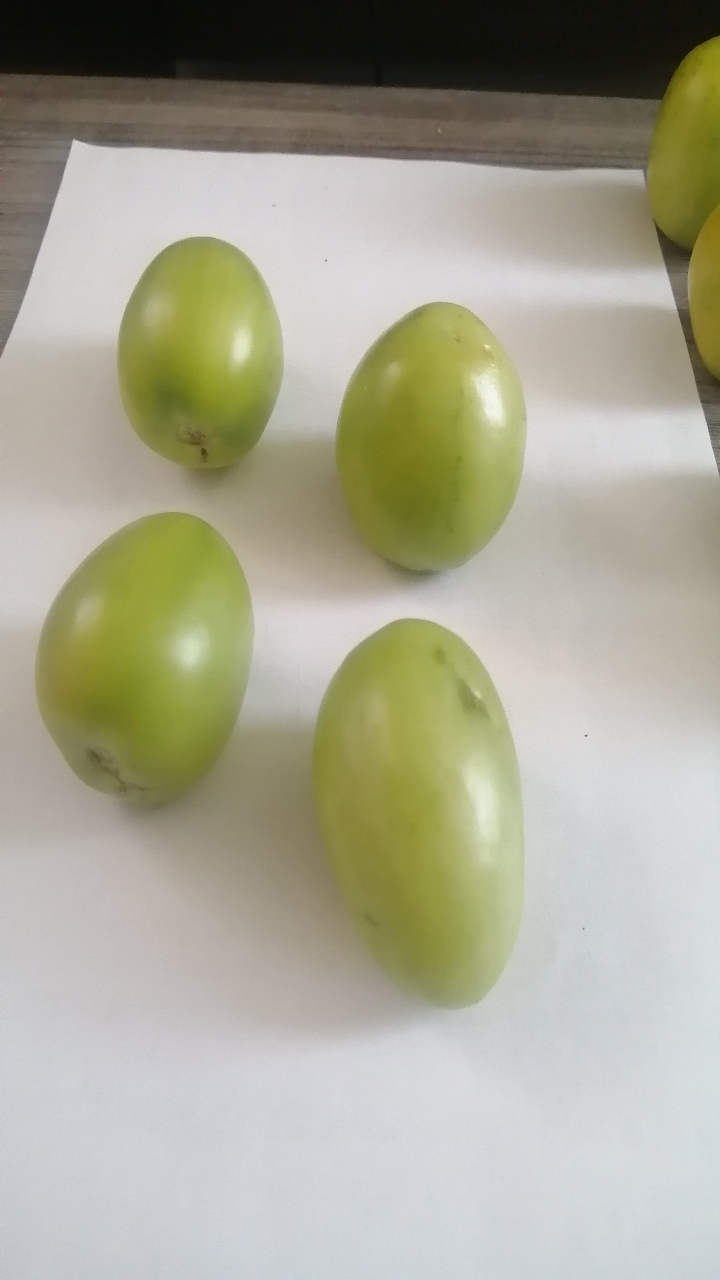tomateVerde: (295, 599, 535, 1031), (11, 468, 264, 832), (311, 280, 531, 582), (100, 209, 294, 477)
